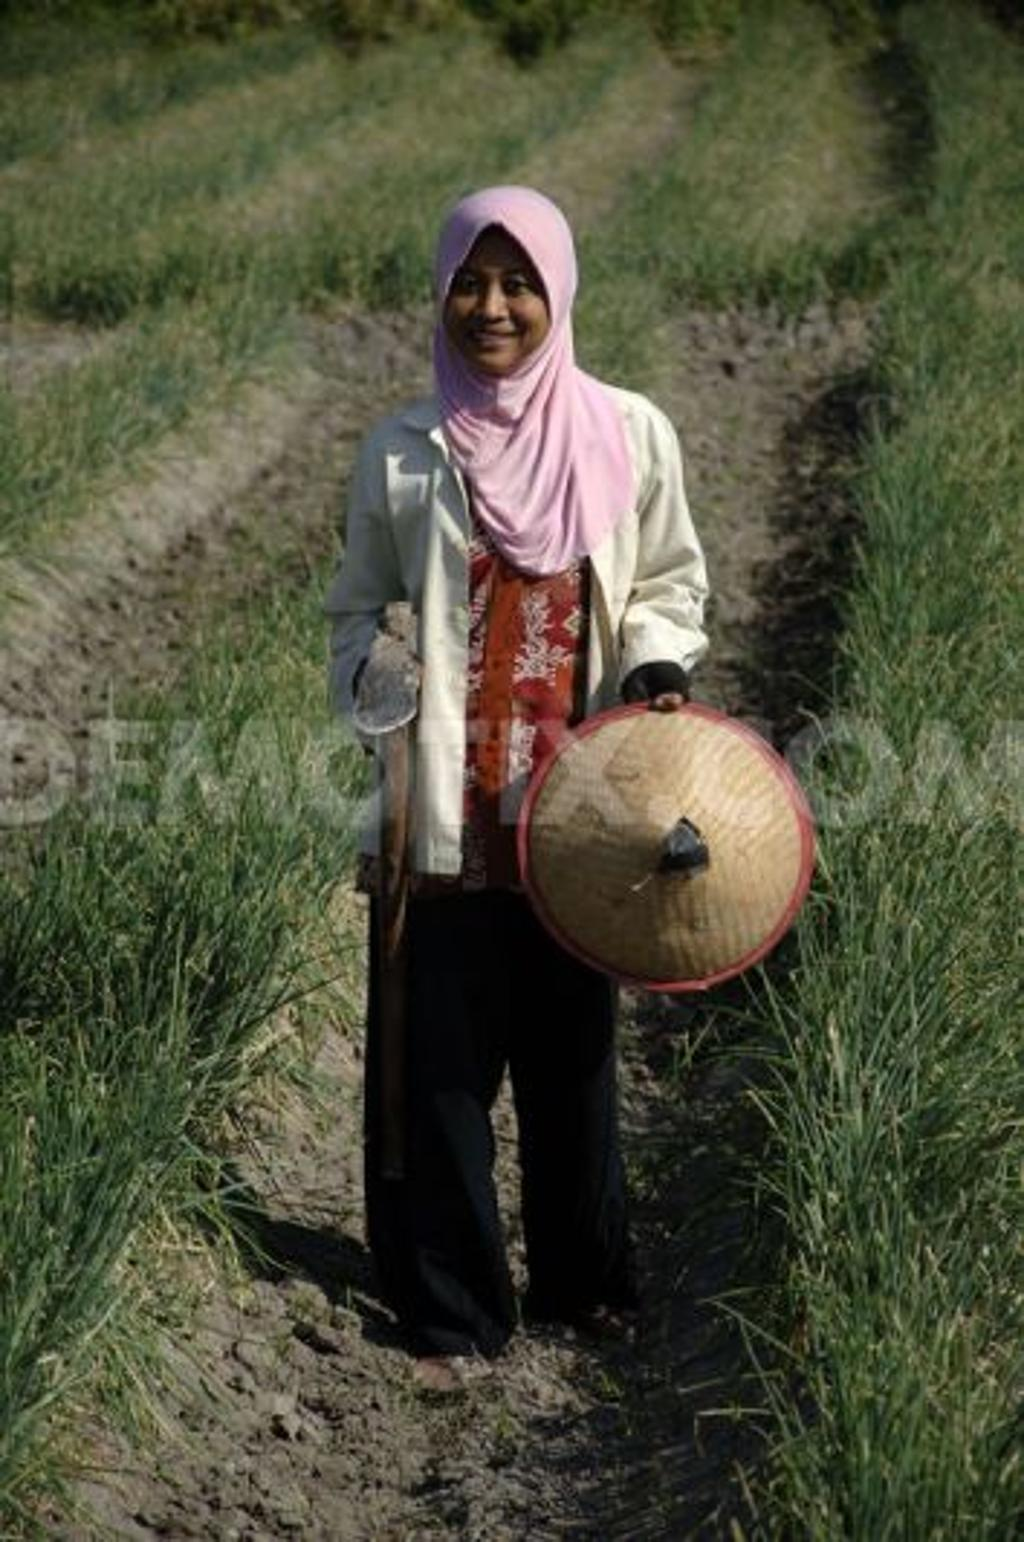face: (449, 226, 545, 359)
